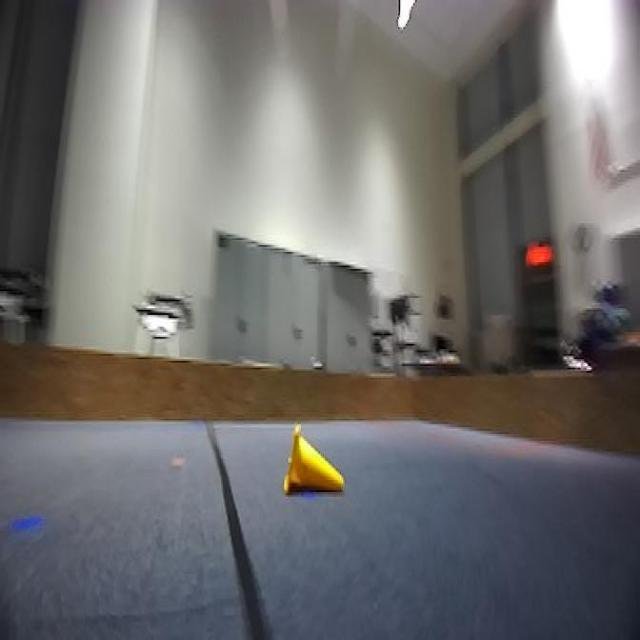frc_cone: (280, 420, 345, 508)
